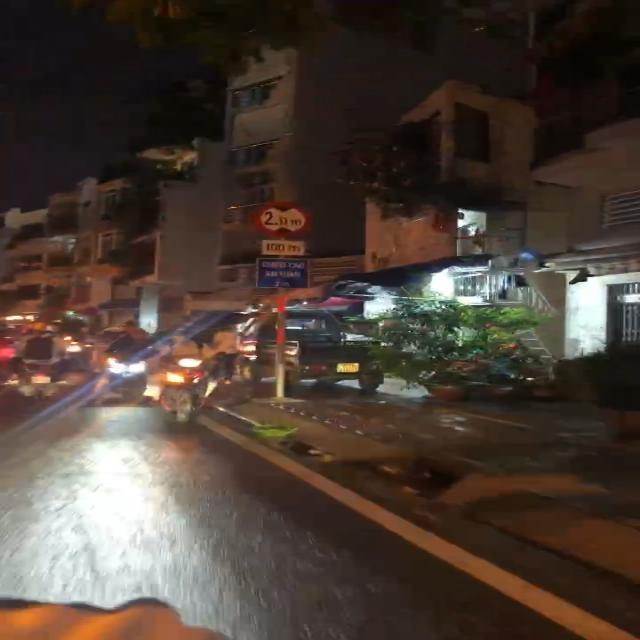Bien bao han che chieu cao: (243, 195, 316, 236)
